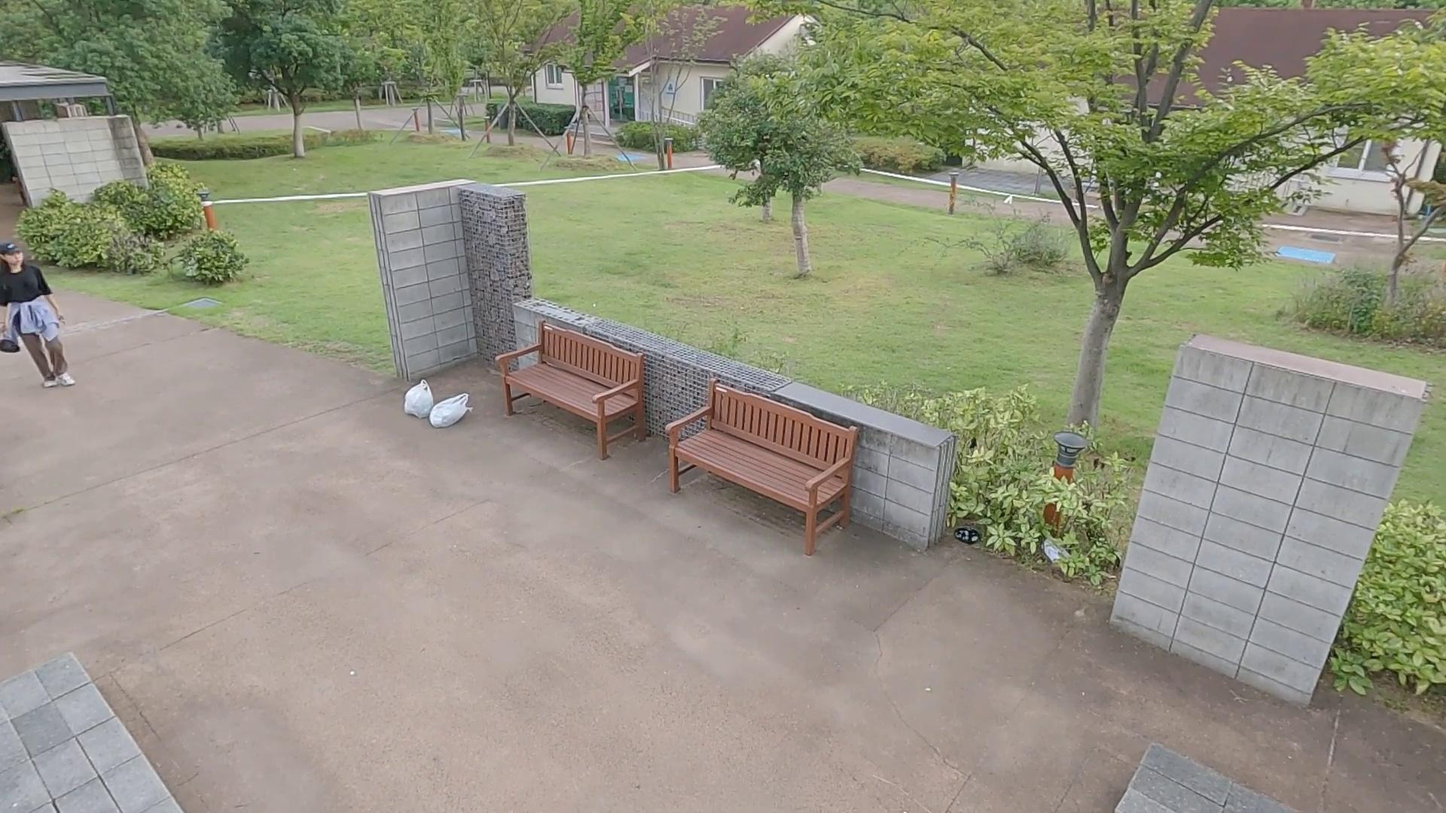trash: (429, 392, 475, 429), (402, 377, 435, 418), (1041, 539, 1074, 567), (955, 524, 981, 545)
